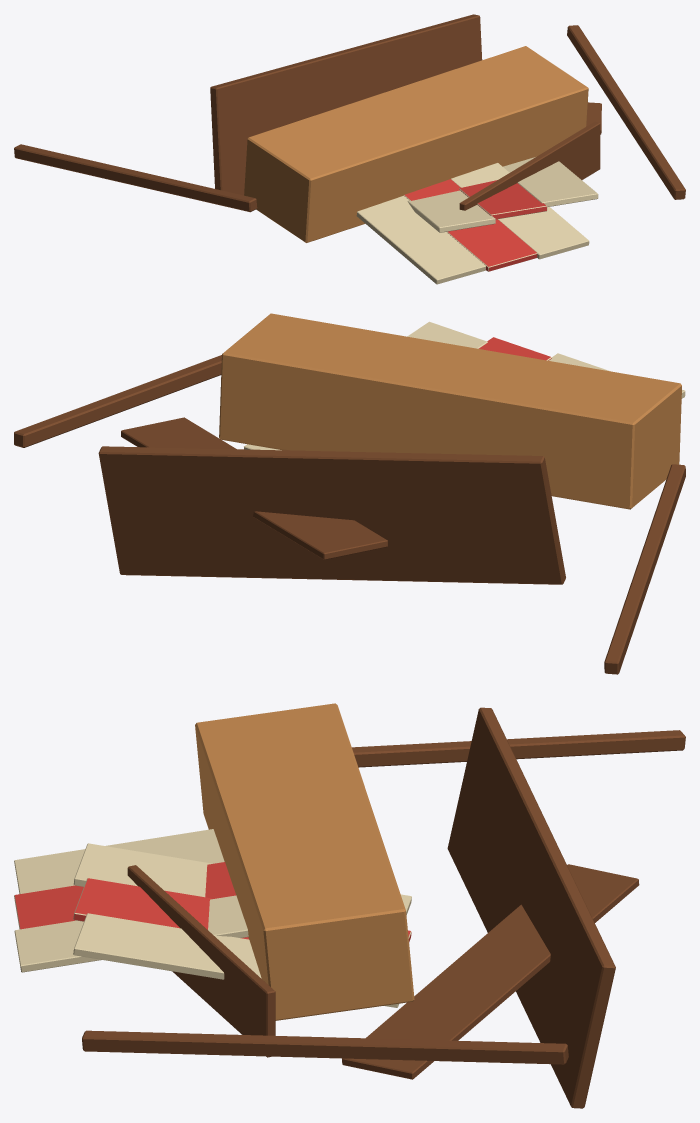
Rendered from prop_stall_a_broken.glb.
3 renders of one model, top to bottom at view 1: azimuth 30°, elevation 25°; view 2: azimuth 150°, elevation 25°; view 3: azimuth 270°, elevation 25°, orthographic. The views are drawn at different scales.
Parts seen in each view (by area): view 1: prop_stall_a_chunk_01, prop_stall_a_chunk_02, prop_stall_a_chunk_05, prop_stall_a_chunk_06, prop_stall_a_chunk_03, prop_stall_a_chunk_07, prop_stall_a_chunk_04; view 2: prop_stall_a_chunk_01, prop_stall_a_chunk_02, prop_stall_a_chunk_08, prop_stall_a_chunk_04, prop_stall_a_chunk_03, prop_stall_a_chunk_06; view 3: prop_stall_a_chunk_01, prop_stall_a_chunk_02, prop_stall_a_chunk_06, prop_stall_a_chunk_08, prop_stall_a_chunk_05, prop_stall_a_chunk_04, prop_stall_a_chunk_07, prop_stall_a_chunk_03.
Part boxes in pixels (x1,y1,x2,y2): prop_stall_a_chunk_01: [244, 46, 588, 242]; prop_stall_a_chunk_02: [210, 14, 482, 195]; prop_stall_a_chunk_05: [356, 163, 589, 284]; prop_stall_a_chunk_06: [407, 157, 598, 232]; prop_stall_a_chunk_03: [14, 144, 257, 212]; prop_stall_a_chunk_07: [459, 121, 600, 210]; prop_stall_a_chunk_04: [567, 25, 685, 199]; prop_stall_a_chunk_01: [219, 313, 681, 509]; prop_stall_a_chunk_02: [98, 446, 565, 584]; prop_stall_a_chunk_08: [121, 417, 387, 559]; prop_stall_a_chunk_04: [14, 355, 221, 447]; prop_stall_a_chunk_03: [604, 464, 685, 674]; prop_stall_a_chunk_06: [244, 321, 609, 450]; prop_stall_a_chunk_01: [195, 703, 414, 1020]; prop_stall_a_chunk_02: [447, 707, 615, 1108]; prop_stall_a_chunk_06: [73, 843, 411, 1007]; prop_stall_a_chunk_08: [342, 864, 639, 1079]; prop_stall_a_chunk_05: [14, 829, 248, 972]; prop_stall_a_chunk_04: [82, 1030, 568, 1064]; prop_stall_a_chunk_07: [127, 865, 275, 1057]; prop_stall_a_chunk_03: [352, 730, 685, 767].
Bounding box in the file's own units: 4.09 × 1.05 × 3.25.
